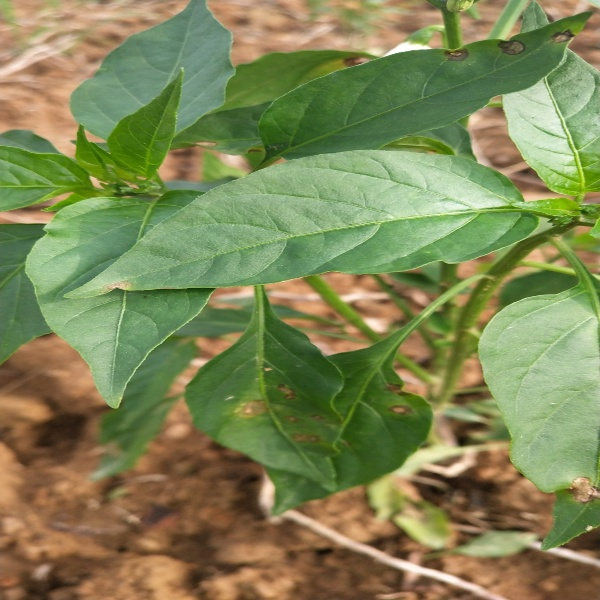Anthrax: (235, 382, 330, 454), (441, 29, 579, 61), (559, 468, 600, 509), (381, 379, 417, 423), (335, 49, 376, 73)
